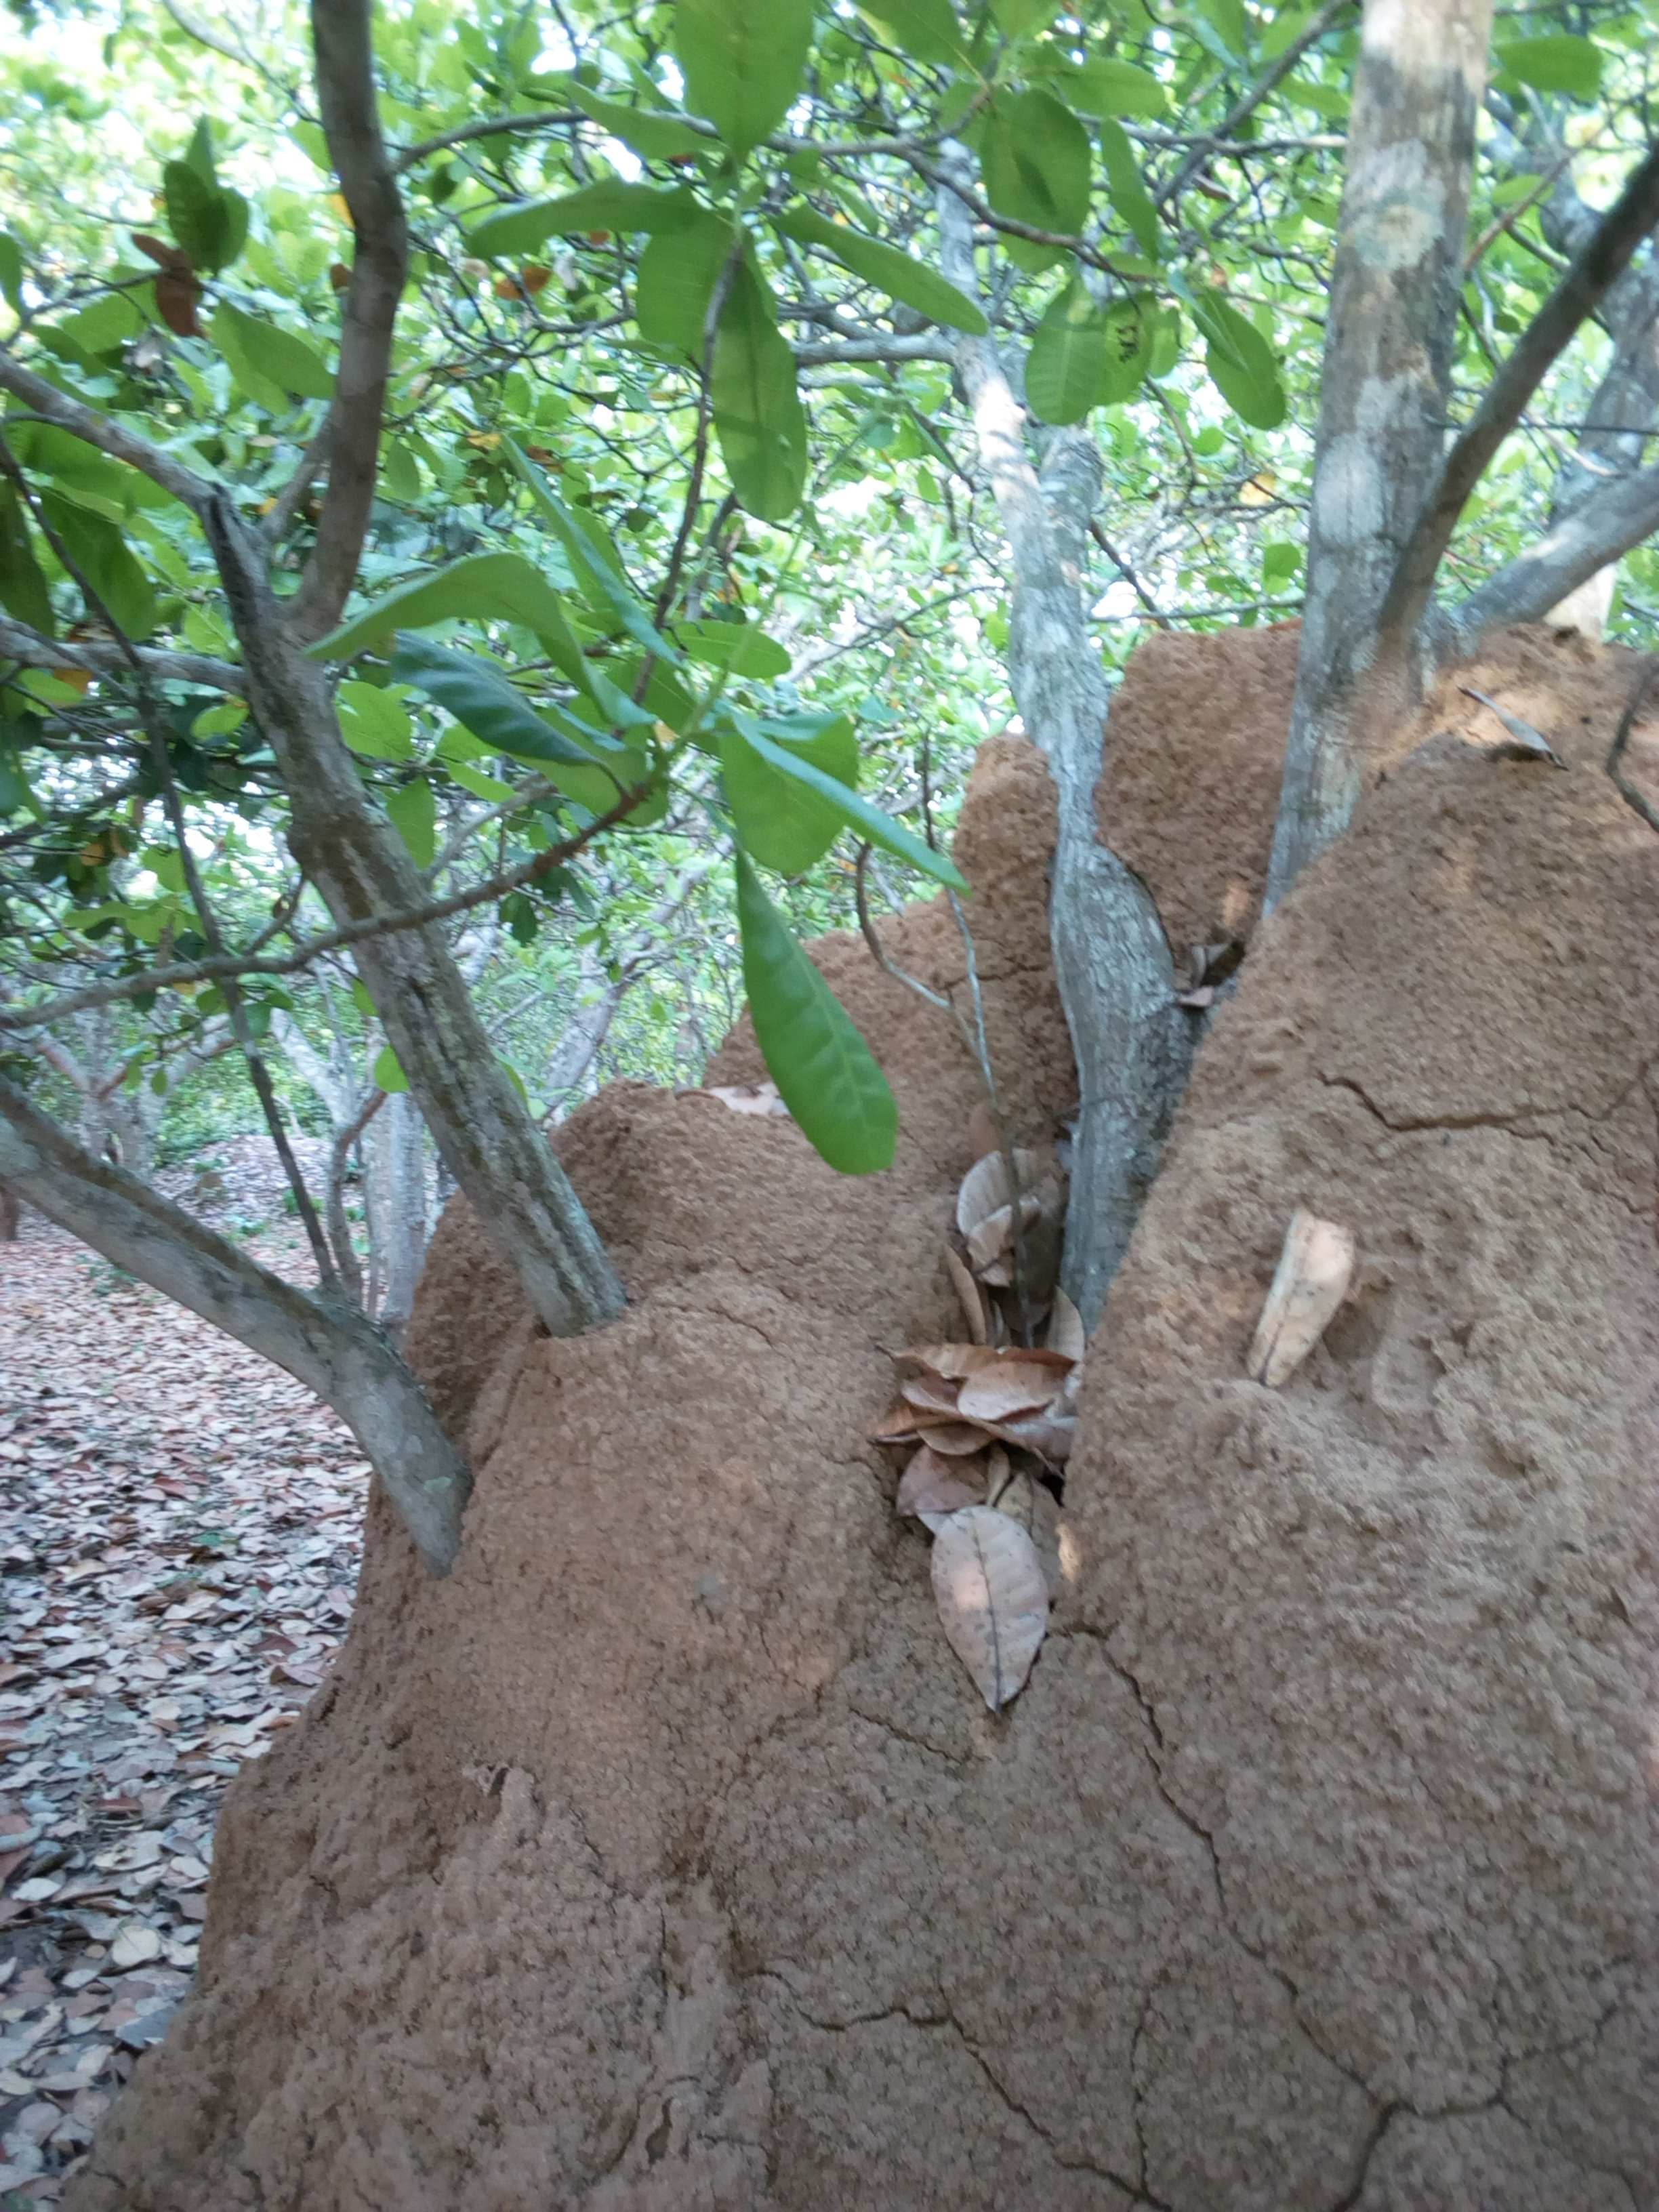Termites: (274, 1583, 1293, 2212), (1310, 766, 1659, 2212), (622, 1078, 836, 1561)
